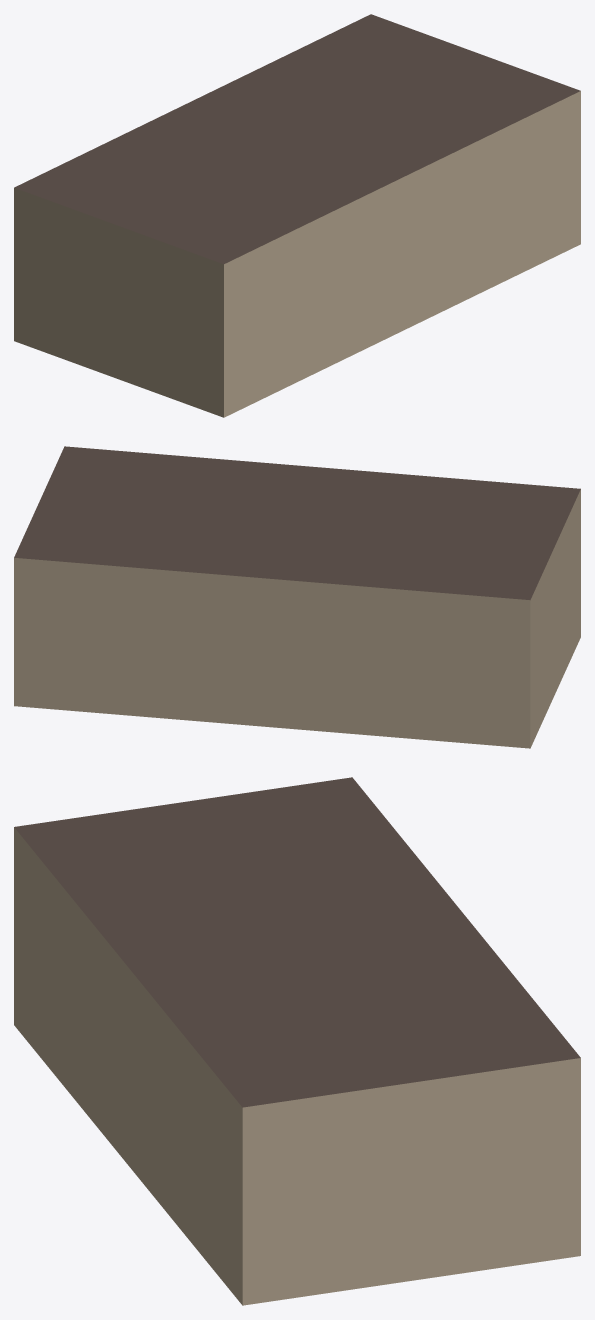
The picture shows the model from 3 angles, top to bottom: view 1: azimuth 30°, elevation 25°; view 2: azimuth 150°, elevation 25°; view 3: azimuth 270°, elevation 25°; orthographic projection. The views are drawn at different scales.
Parts seen in each view (by area): view 1: HP-w859488721; view 2: HP-w859488721; view 3: HP-w859488721.
Part boxes in pixels (<box>): HP-w859488721: <box>14,14,580,417</box>; HP-w859488721: <box>14,446,580,748</box>; HP-w859488721: <box>14,777,580,1305</box>.
Size of the model in its own units: 32.19 by 9 by 23.35.
